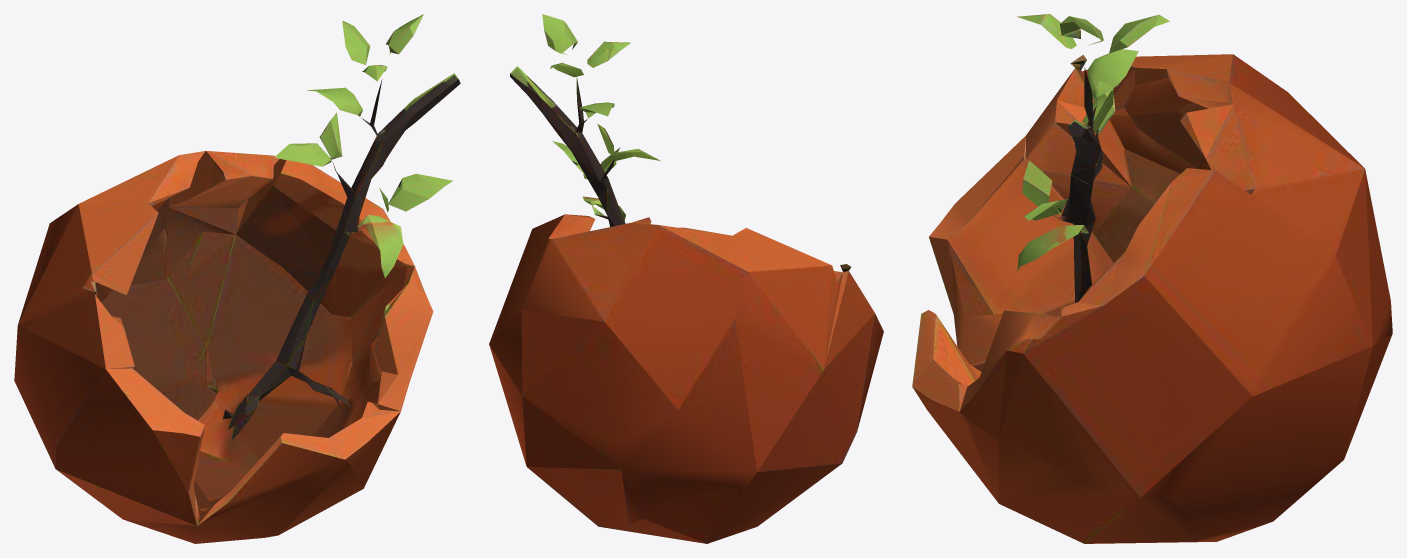
File: potCracked.glb
3 views of the same model, side by side, from view 1: azimuth 30°, elevation 25°; view 2: azimuth 150°, elevation 25°; view 3: azimuth 270°, elevation 25° (orthographic). The views are drawn at different scales.
Size of the model in its own units: 1.67 by 1.9 by 1.41.
1 material, 1 textured.
